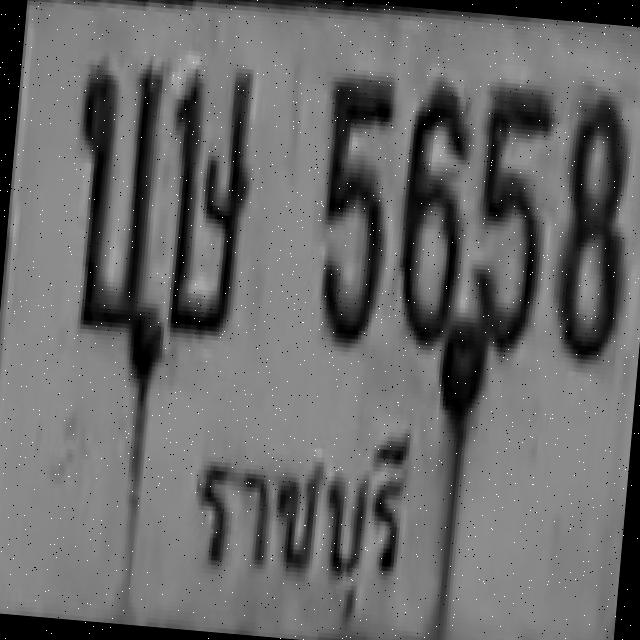35BorBaiMai: (56, 55, 176, 362), (58, 54, 168, 334)
48SorRueSi: (153, 58, 261, 342)
5: (460, 80, 556, 358), (306, 72, 396, 350)
6: (390, 81, 476, 350)
8: (546, 90, 634, 359)
Ratchaburi: (170, 393, 428, 628)
